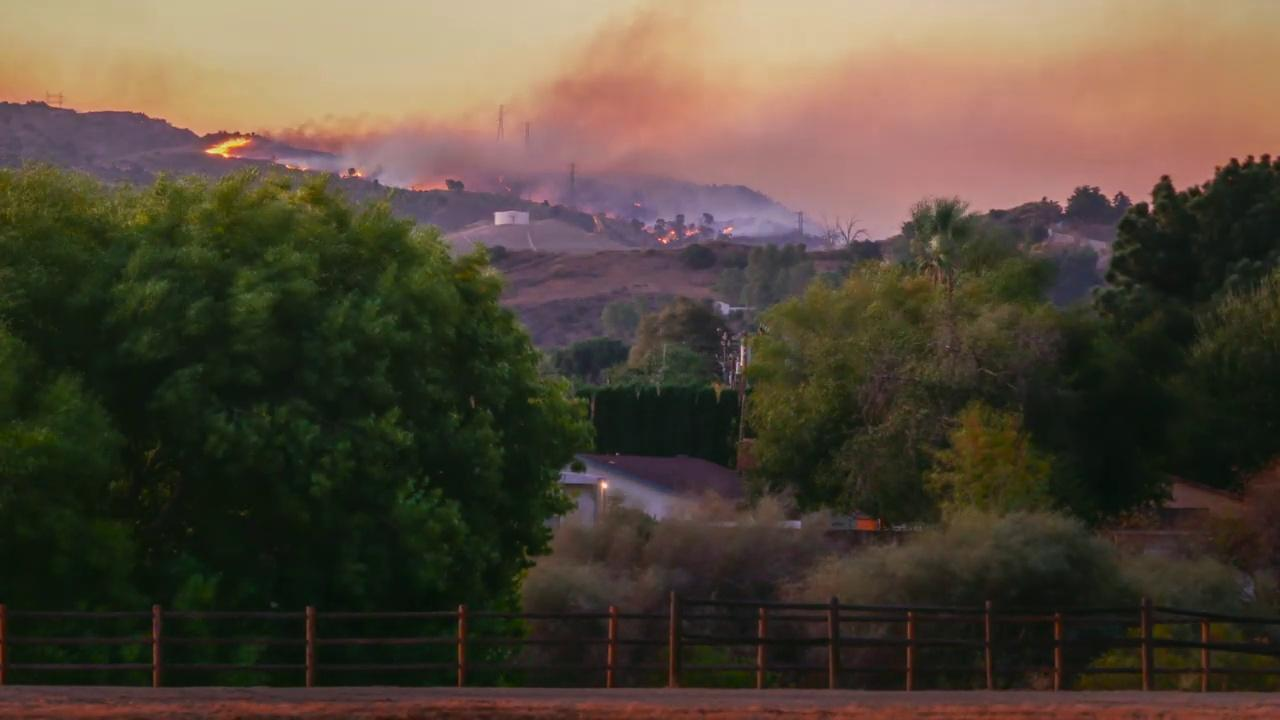fire: (656, 208, 718, 248), (200, 138, 284, 164)
